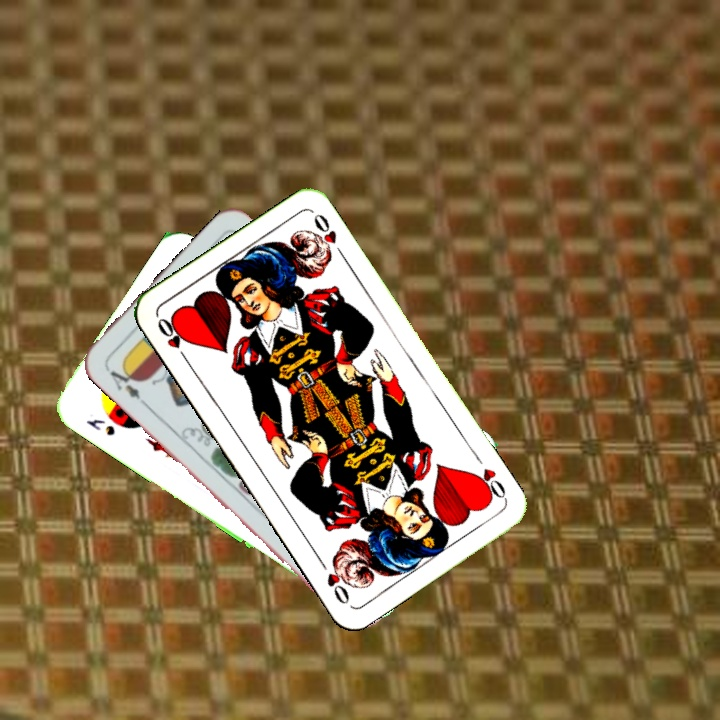EA: (105, 361, 150, 407)
HO: (153, 313, 192, 365), (469, 464, 509, 504)
SK: (82, 414, 118, 439)
